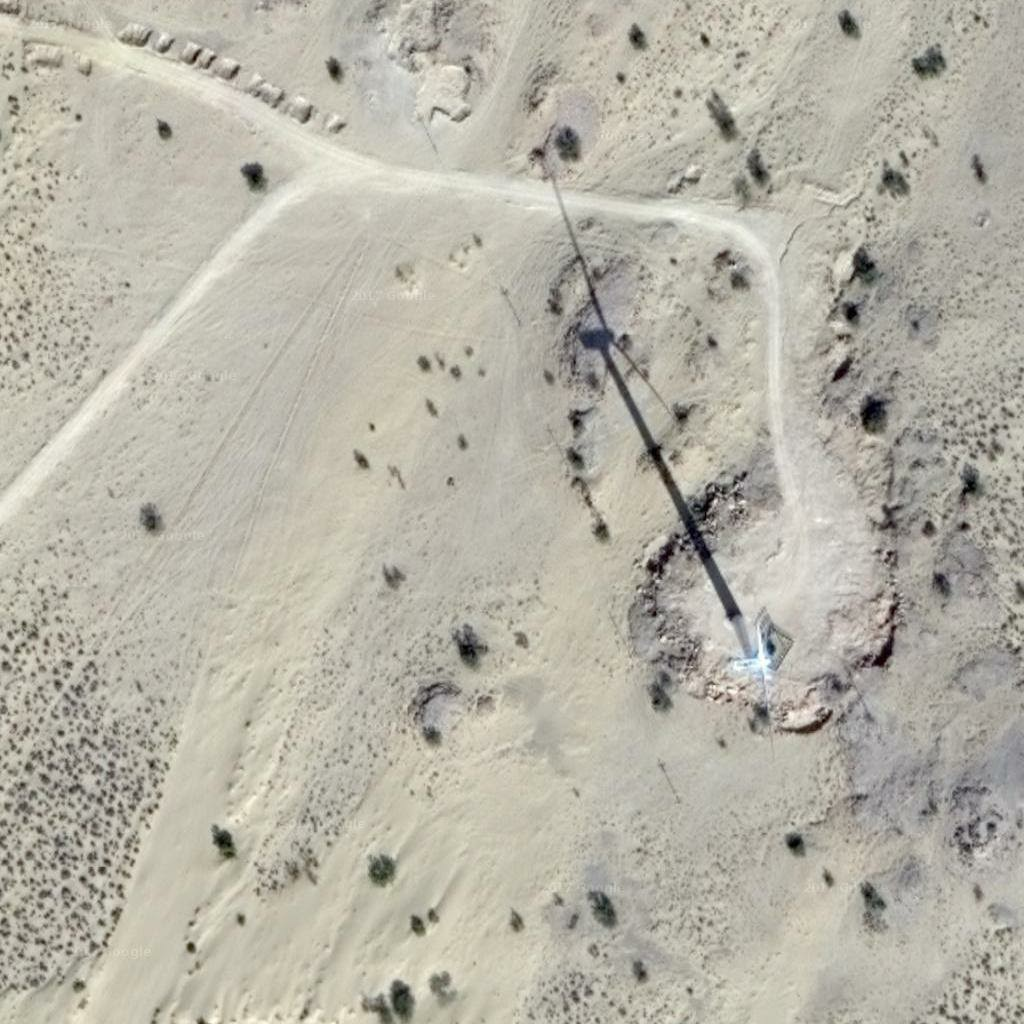Windmill: (544, 167, 747, 614)
